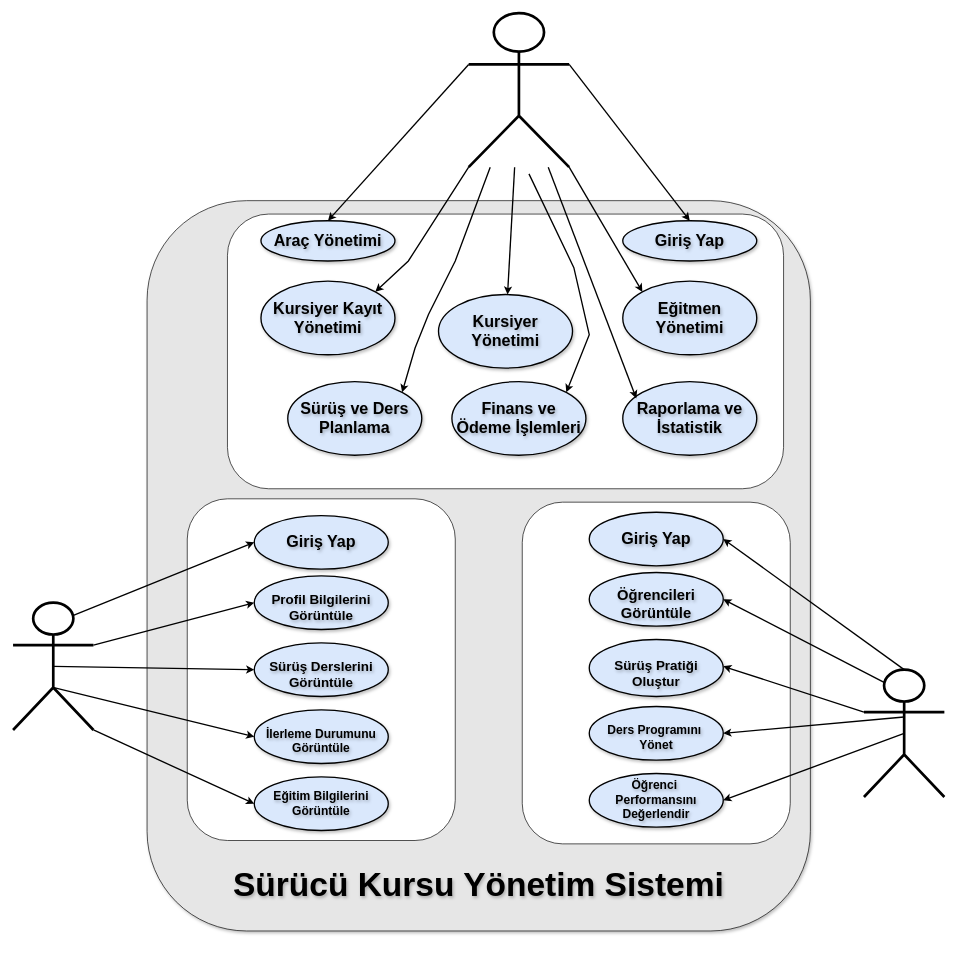
Some shapes in this 957 by 962 pixel diagram are drawn without their labels. Each missing label, with the centre of its shape:
"Eğitmen" goes at [903,733].
"Kurs Personeli" goes at [518,89].
"Kursiyer" goes at [52,666].
